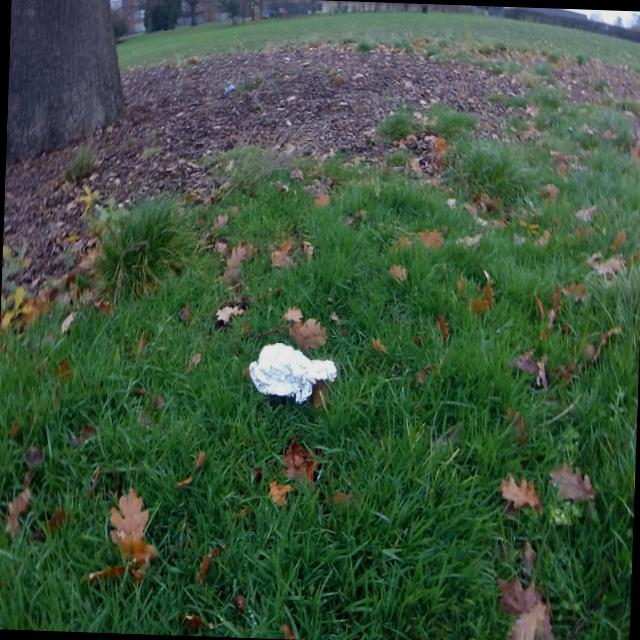Recycle: (247, 343, 340, 407)
